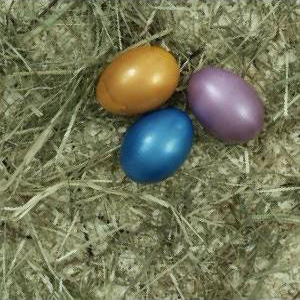egg: (95, 46, 181, 117), (187, 67, 266, 143), (121, 109, 195, 183)
